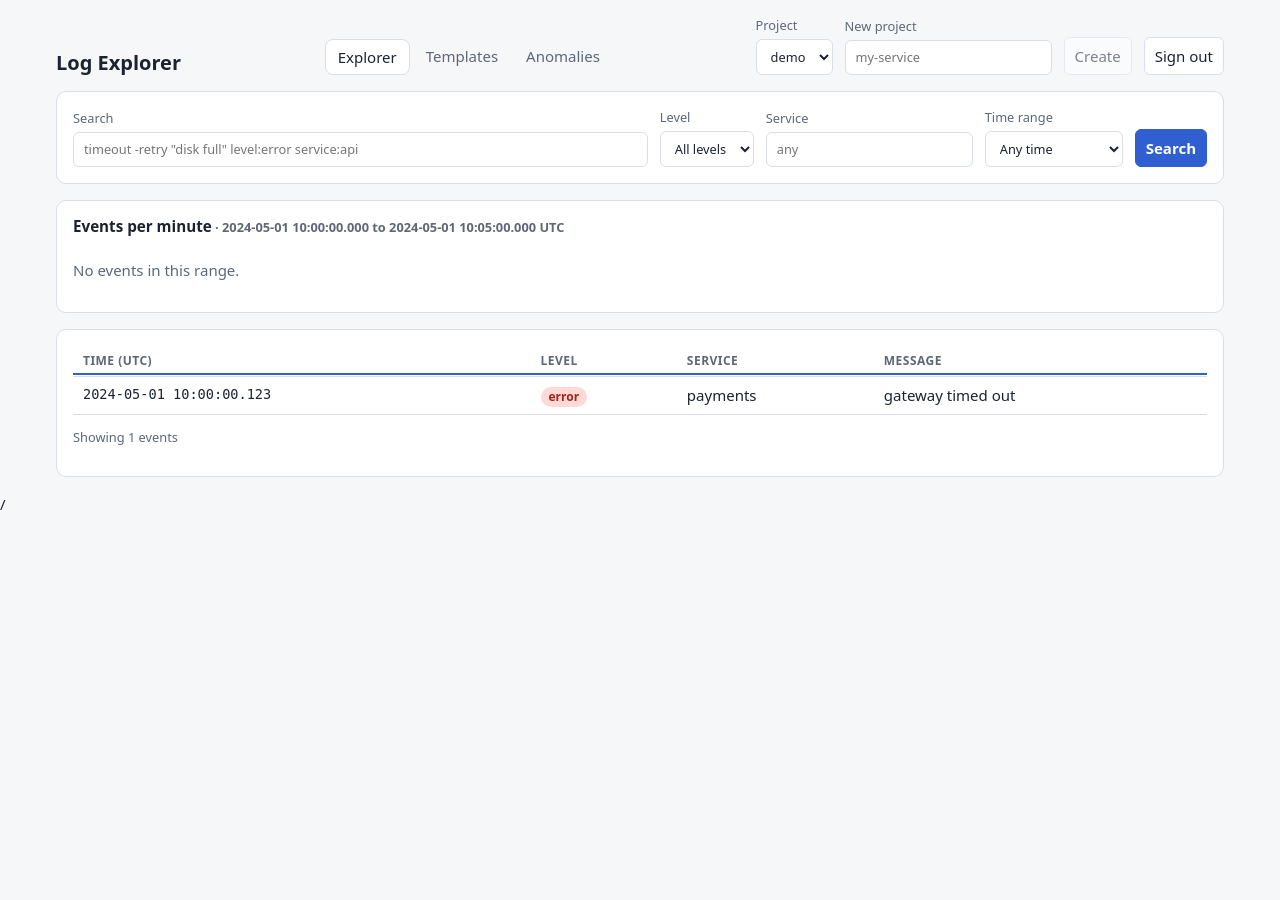
Scenario: detail drawer › opens from the keyboard and closes with the Close button
Press Enter
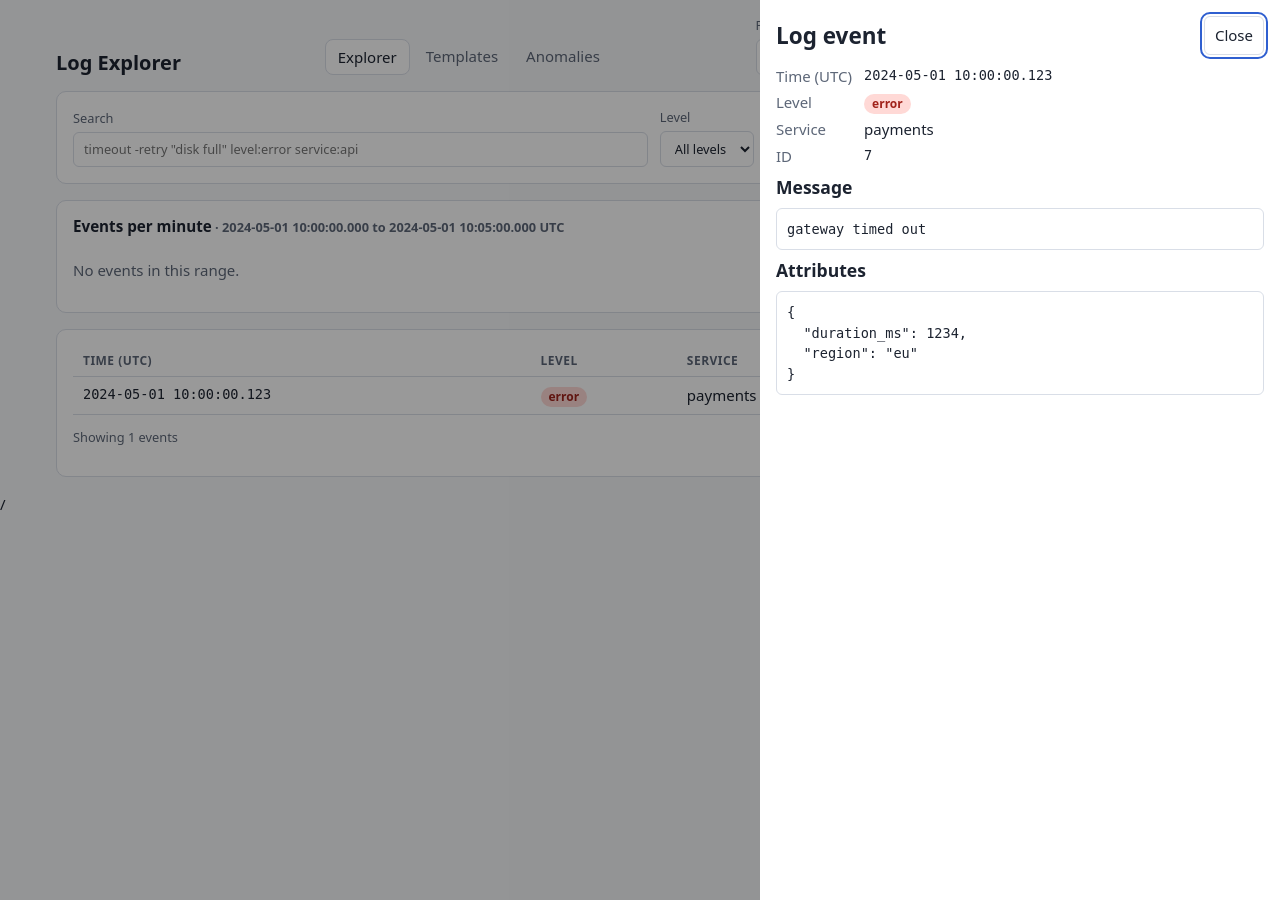
Now the dialog is shown, box [760,0,1279,899]
Click the button "Close" at [1234, 35], box [1204,16,1264,54]
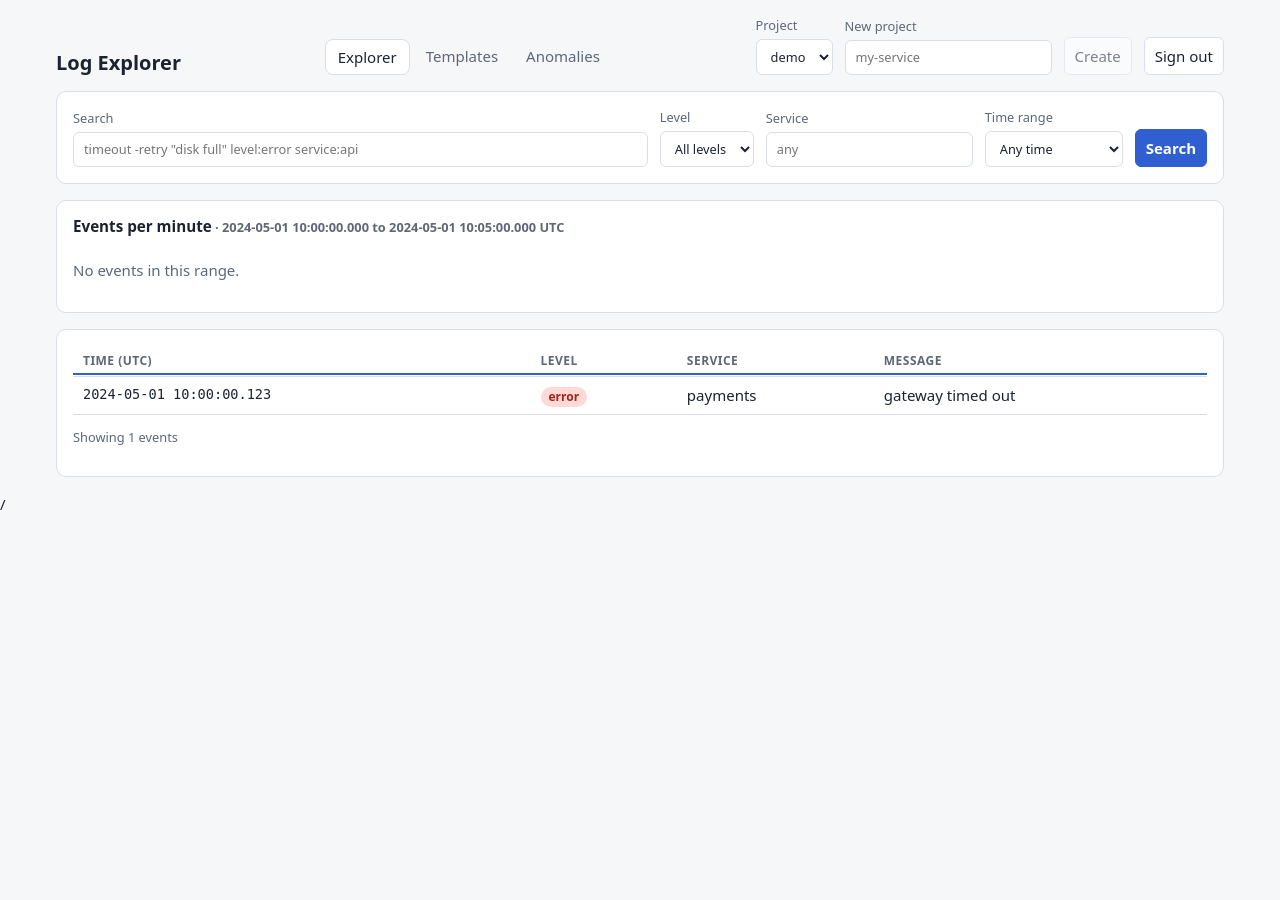
Now the dialog is gone
